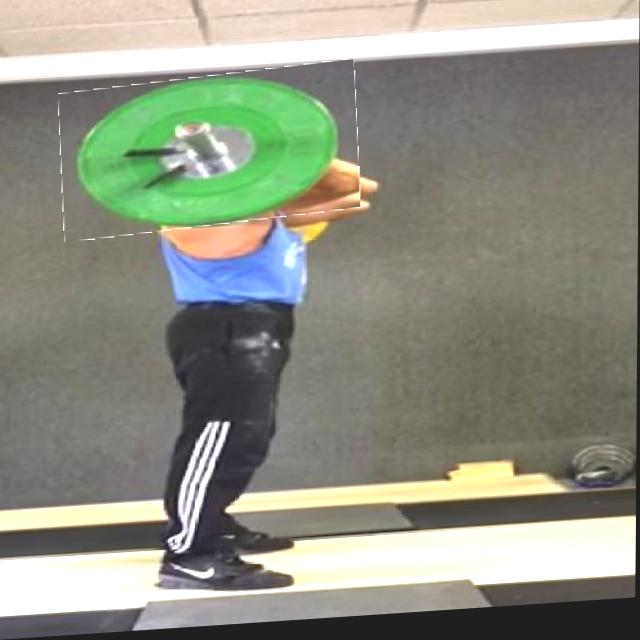barbell: (60, 68, 360, 241)
